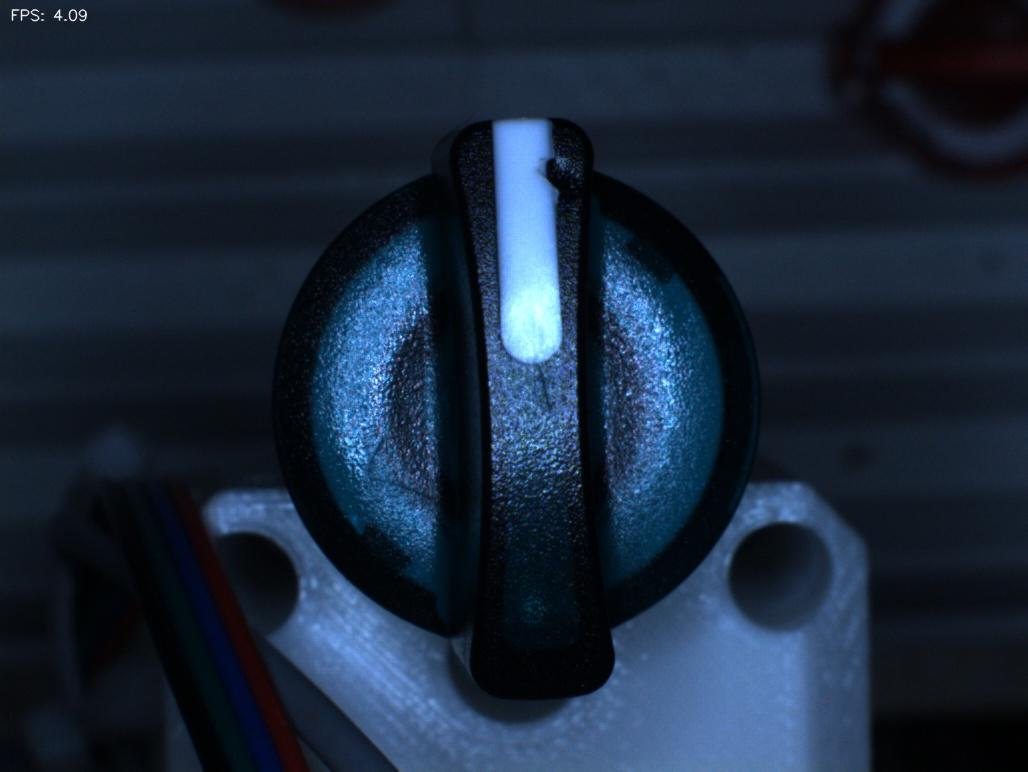Choc: (510, 124, 603, 221)
